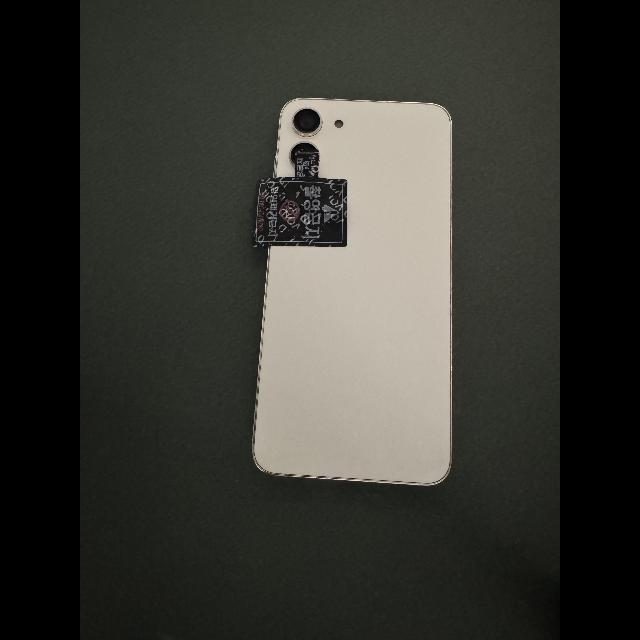lens: (294, 108, 320, 134), (290, 142, 317, 165)
phone: (252, 97, 453, 487)
sticker: (252, 176, 348, 247), (295, 150, 319, 178)
